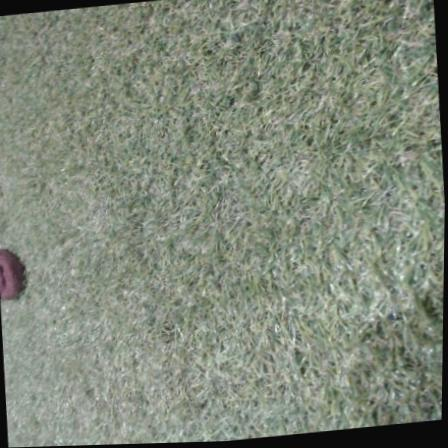dog-poop: (0, 241, 32, 301)
